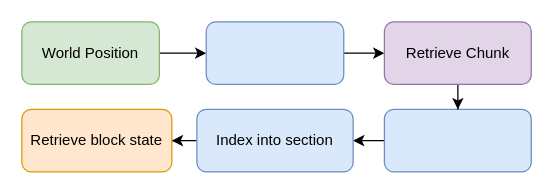
This 554x194 diagram has some shape labels left out. The shapes that lost their labels are listed below. From the top down, each one's box as (x1, y1, x2, y2) in pixels, then its label:
(205, 21, 344, 84): Chunk Position
(383, 108, 531, 172): Position Within Section
